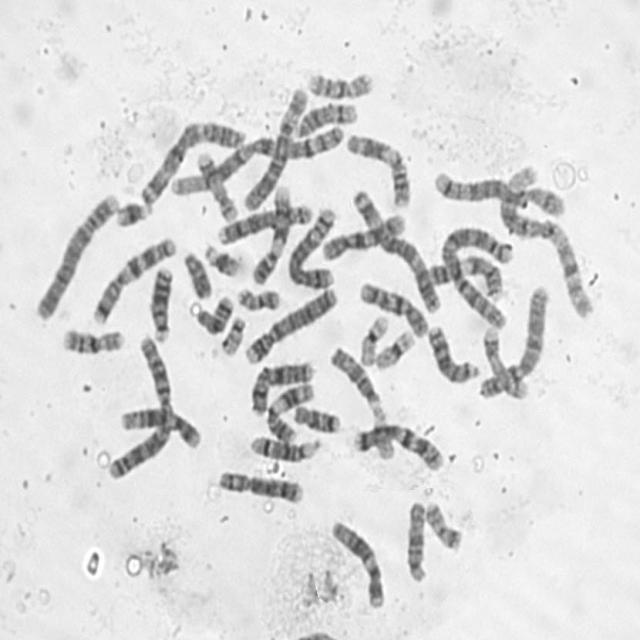A1: (499, 165, 596, 321), (169, 125, 345, 198)
A2: (105, 333, 173, 482), (441, 224, 514, 334)
A3: (352, 188, 444, 313), (140, 121, 249, 208)
B4: (32, 194, 121, 322), (242, 288, 338, 367)
B5: (432, 170, 565, 218), (288, 208, 342, 290)
C10: (318, 213, 408, 263), (359, 282, 429, 340)
C11: (344, 133, 412, 209), (264, 384, 318, 444)
C12: (326, 516, 388, 612), (120, 407, 201, 451)
C6: (242, 88, 312, 214), (477, 284, 551, 402)
C7: (90, 237, 177, 327), (350, 421, 447, 473)
C8: (218, 204, 314, 248), (215, 470, 305, 508)
C9: (251, 184, 292, 286), (427, 254, 507, 302)
D13: (427, 320, 481, 388), (149, 267, 175, 345)
D14: (290, 103, 359, 140), (249, 437, 325, 464)
D15: (328, 346, 382, 407), (407, 499, 428, 584)
E16: (307, 71, 376, 100), (60, 328, 126, 358)
E17: (482, 328, 529, 402), (193, 151, 239, 222)
E18: (197, 294, 234, 336), (292, 404, 342, 434)
F19: (374, 327, 418, 371), (357, 312, 389, 369)
F20: (426, 502, 464, 554), (235, 287, 282, 312)
G21: (112, 199, 155, 230), (203, 243, 240, 278)
G22: (367, 408, 398, 461), (220, 317, 245, 357)
X: (247, 359, 314, 419)
Y: (181, 250, 213, 300)
